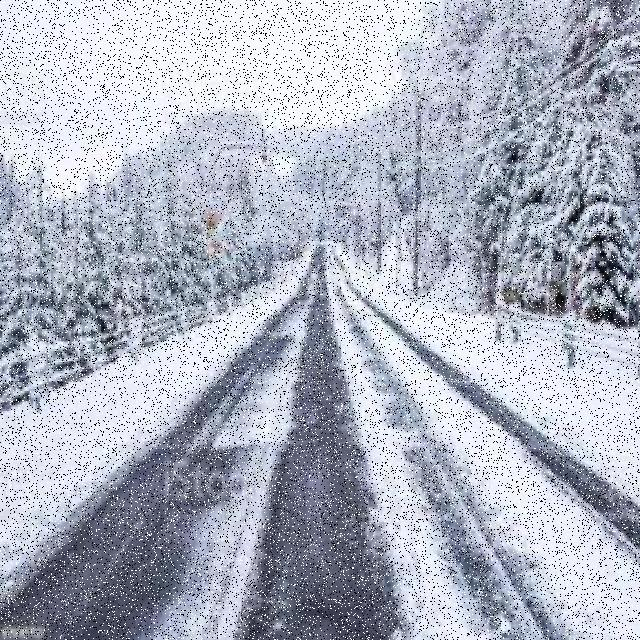ice-road: (0, 242, 640, 640)
